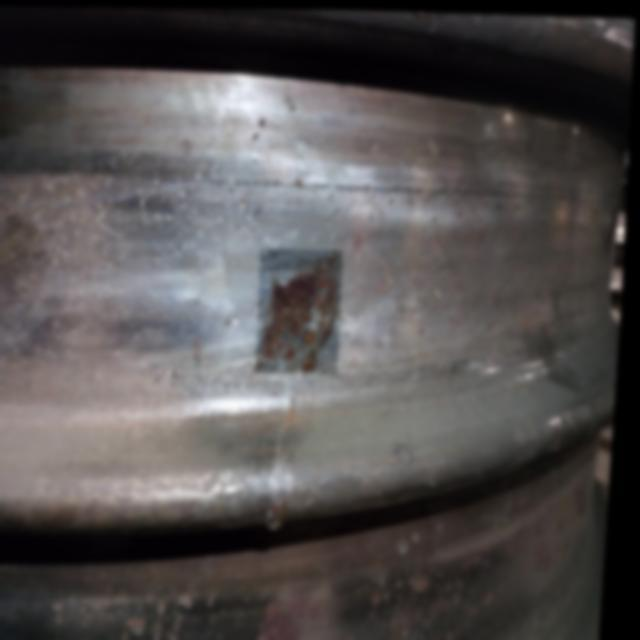Blue hole: (258, 247, 349, 374)
